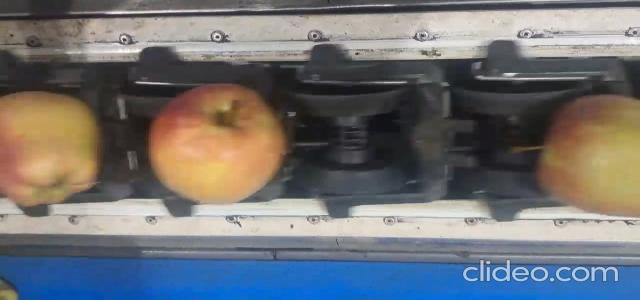apple: (149, 84, 286, 203), (539, 95, 640, 216)
